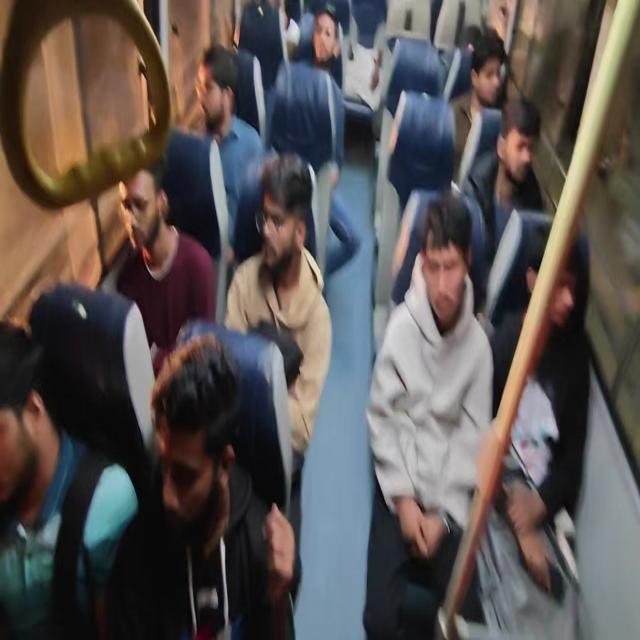person: (2, 1, 594, 638), (362, 190, 494, 638), (104, 332, 297, 638), (223, 151, 333, 608), (476, 218, 592, 636), (0, 317, 138, 638), (27, 281, 156, 498), (110, 155, 217, 373), (266, 3, 346, 276), (193, 43, 264, 249), (464, 93, 546, 256), (449, 28, 509, 188), (237, 0, 300, 92)
